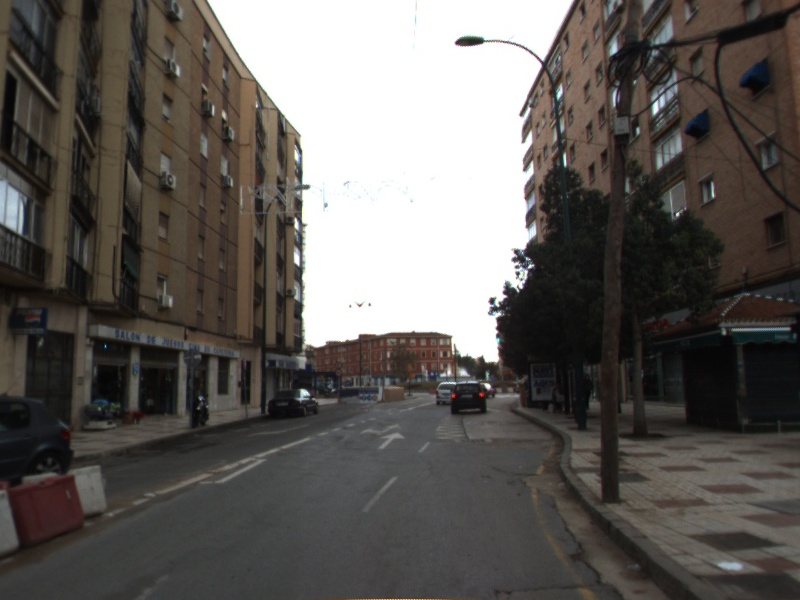STRAIGHT: (376, 430, 407, 451)
STRAIGHT_LEFT: (357, 421, 405, 437)
